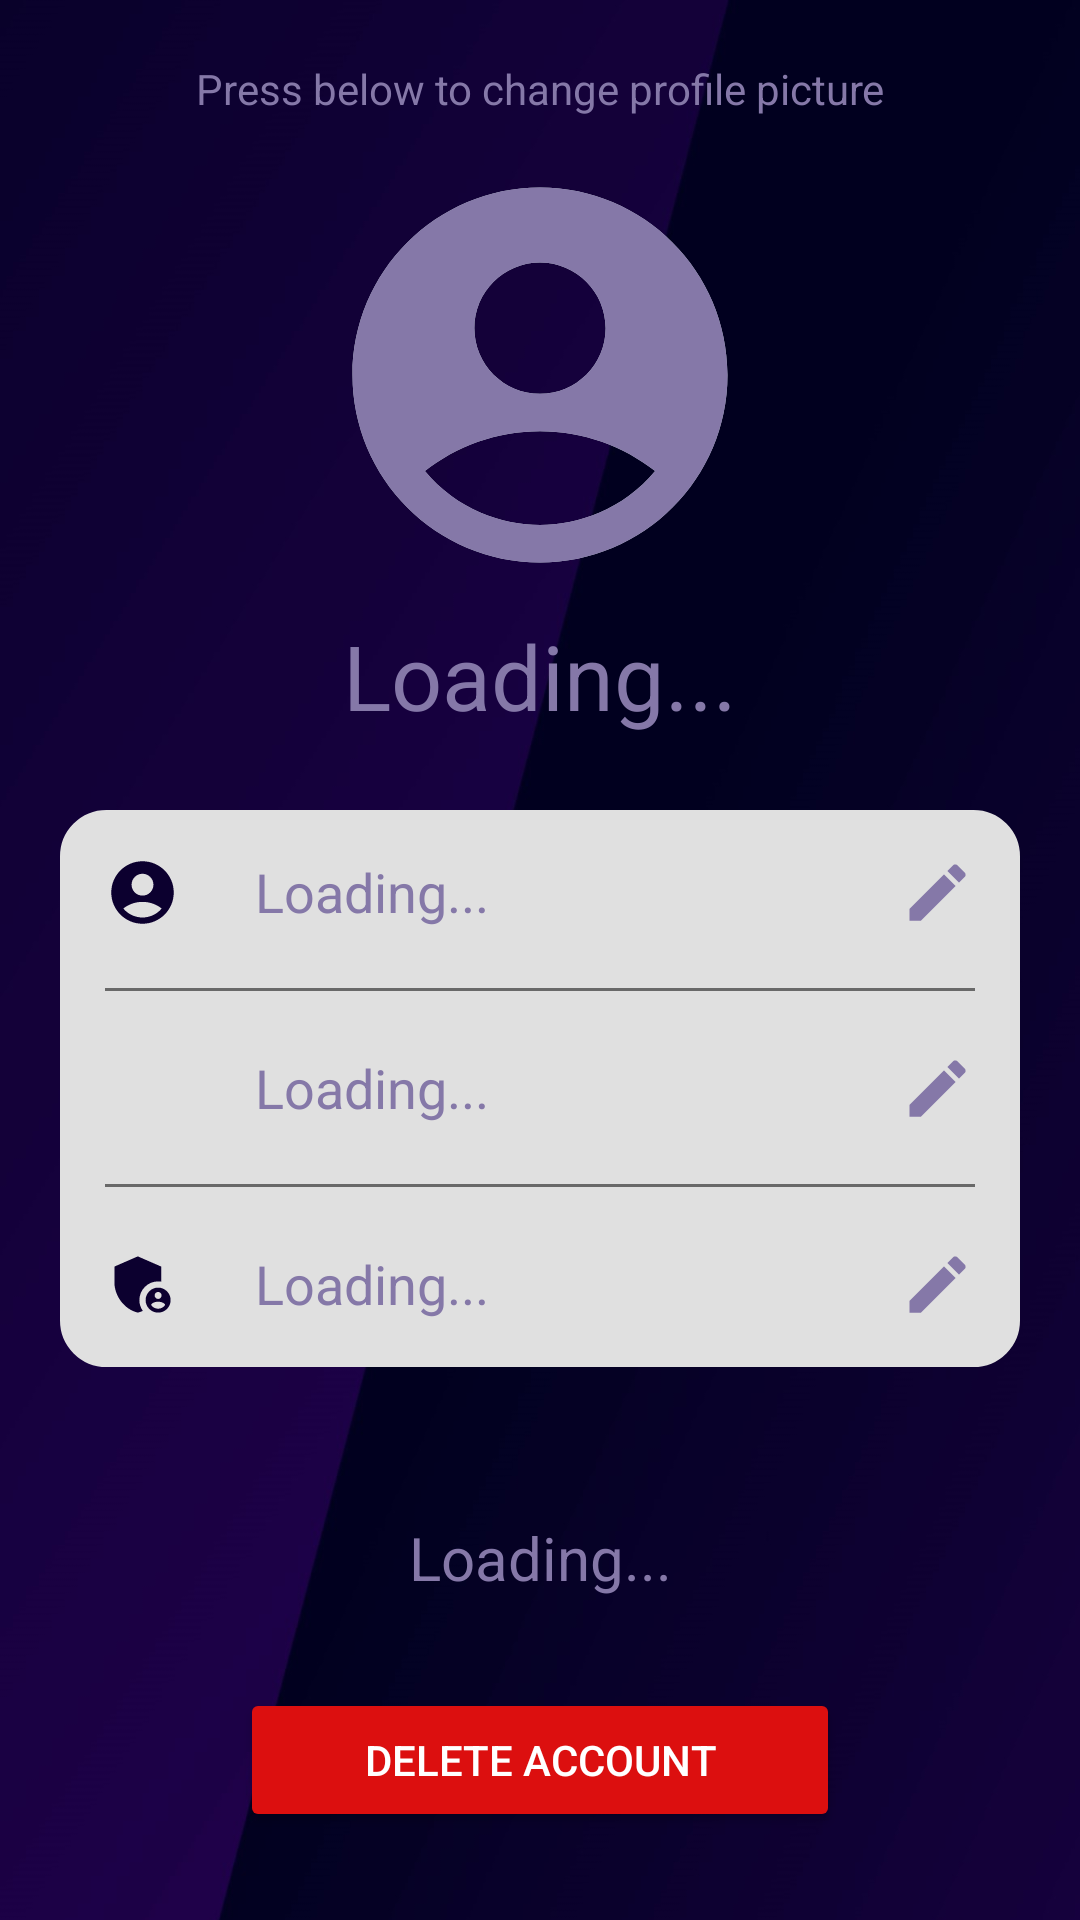

Icon bounding boxes for this 1080*1920 phone screenshot, format BBox(x1, y1, x2, y2):
account: BBox(111, 861, 174, 924)
pass: BBox(114, 1256, 171, 1313)
